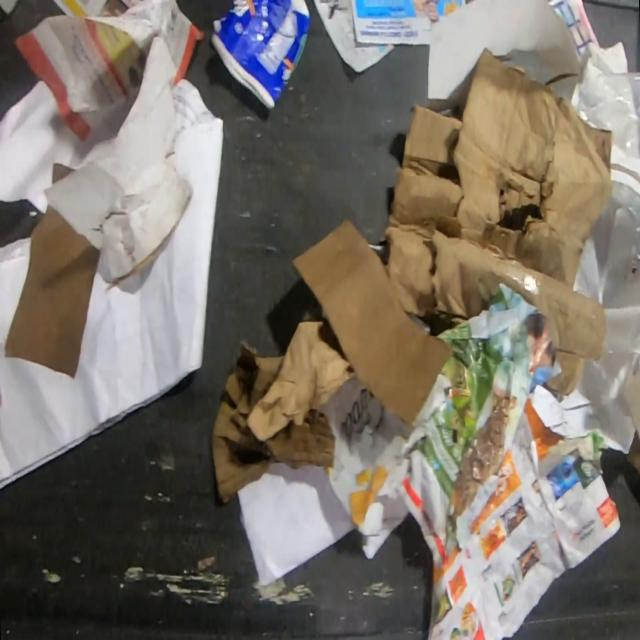cardboard: (381, 45, 612, 397), (40, 35, 191, 288), (289, 218, 455, 428), (210, 319, 357, 504), (211, 0, 311, 108)
soft_plastic: (576, 60, 640, 184)
